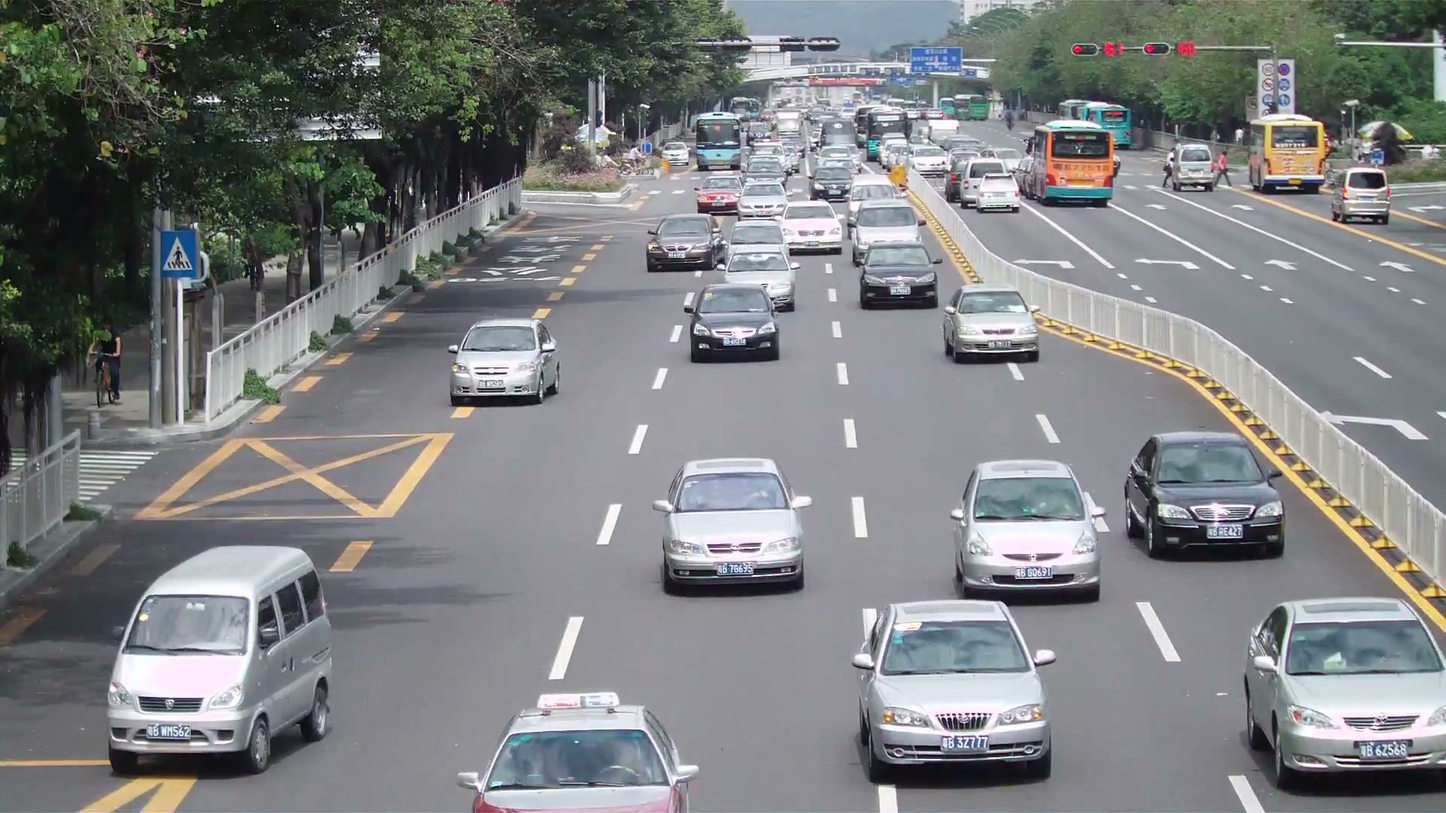car: (106, 542, 335, 776), (1241, 597, 1445, 790), (850, 598, 1057, 786), (458, 694, 699, 812), (948, 458, 1109, 604), (652, 456, 810, 597), (1122, 430, 1287, 561), (448, 318, 561, 405), (940, 285, 1040, 363), (684, 284, 780, 364), (722, 219, 799, 313), (858, 242, 939, 310), (1324, 164, 1392, 226), (645, 215, 719, 271), (780, 199, 846, 253), (1166, 143, 1217, 192)
pedestrian: (95, 328, 124, 406)
truck: (1022, 120, 1116, 206), (1244, 115, 1331, 193), (1325, 165, 1392, 225), (692, 111, 743, 171)
